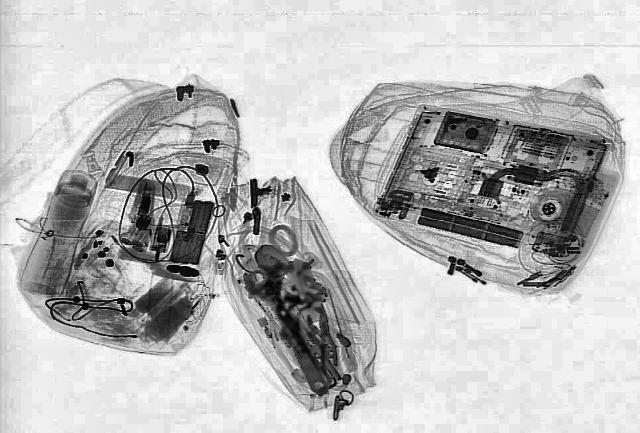Wrench: (237, 263, 346, 397)
